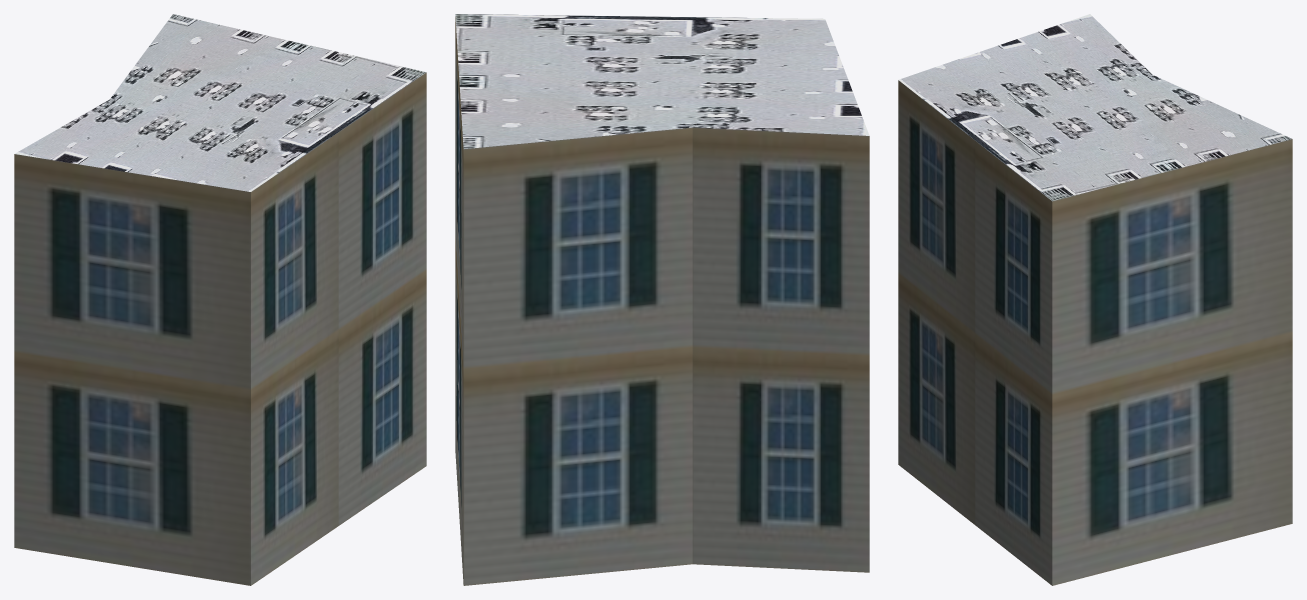
File: ResTex__1279.fbx
The picture shows the model from 3 angles, left to right: view 1: azimuth 30°, elevation 25°; view 2: azimuth 150°, elevation 25°; view 3: azimuth 270°, elevation 25°; orthographic projection. The views are drawn at different scales.
Parts seen in each view (by area): view 1: CityEngineMaterial_7_m, CityEngineMaterial_4_m; view 2: CityEngineMaterial_7_m, CityEngineMaterial_4_m; view 3: CityEngineMaterial_7_m, CityEngineMaterial_4_m.
Part boxes in pixels (x1,y1,x2,y2): CityEngineMaterial_7_m: (14,72,426,585); CityEngineMaterial_4_m: (15,14,426,191); CityEngineMaterial_7_m: (455,16,869,585); CityEngineMaterial_4_m: (455,14,869,148); CityEngineMaterial_7_m: (898,80,1292,585); CityEngineMaterial_4_m: (898,14,1291,201).
Size of the model in its own units: 6.26 by 6 by 5.58.
2 materials, 2 textured.
